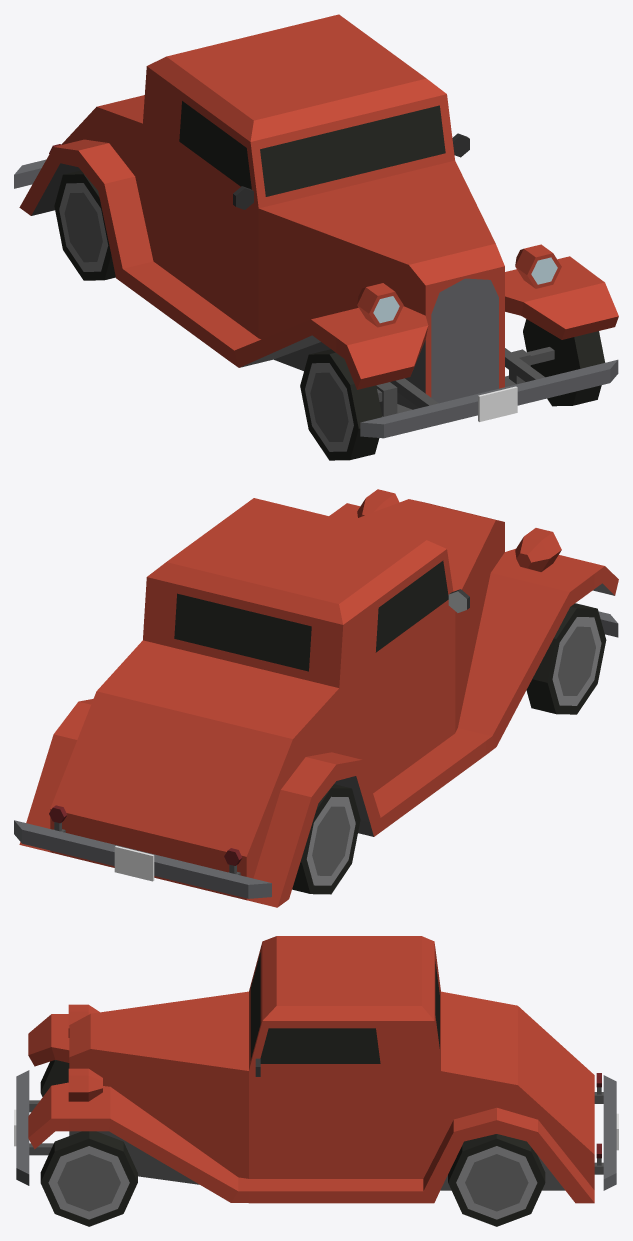
Rendered from Veh_Retro_Car_02_Red.obj.
3 renders of one model, top to bottom at view 1: azimuth 30°, elevation 25°; view 2: azimuth 150°, elevation 25°; view 3: azimuth 270°, elevation 25°, orthographic. The views are drawn at different scales.
Bounding box in the file's own units: 0.9825 × 0.8995 × 2.4.
